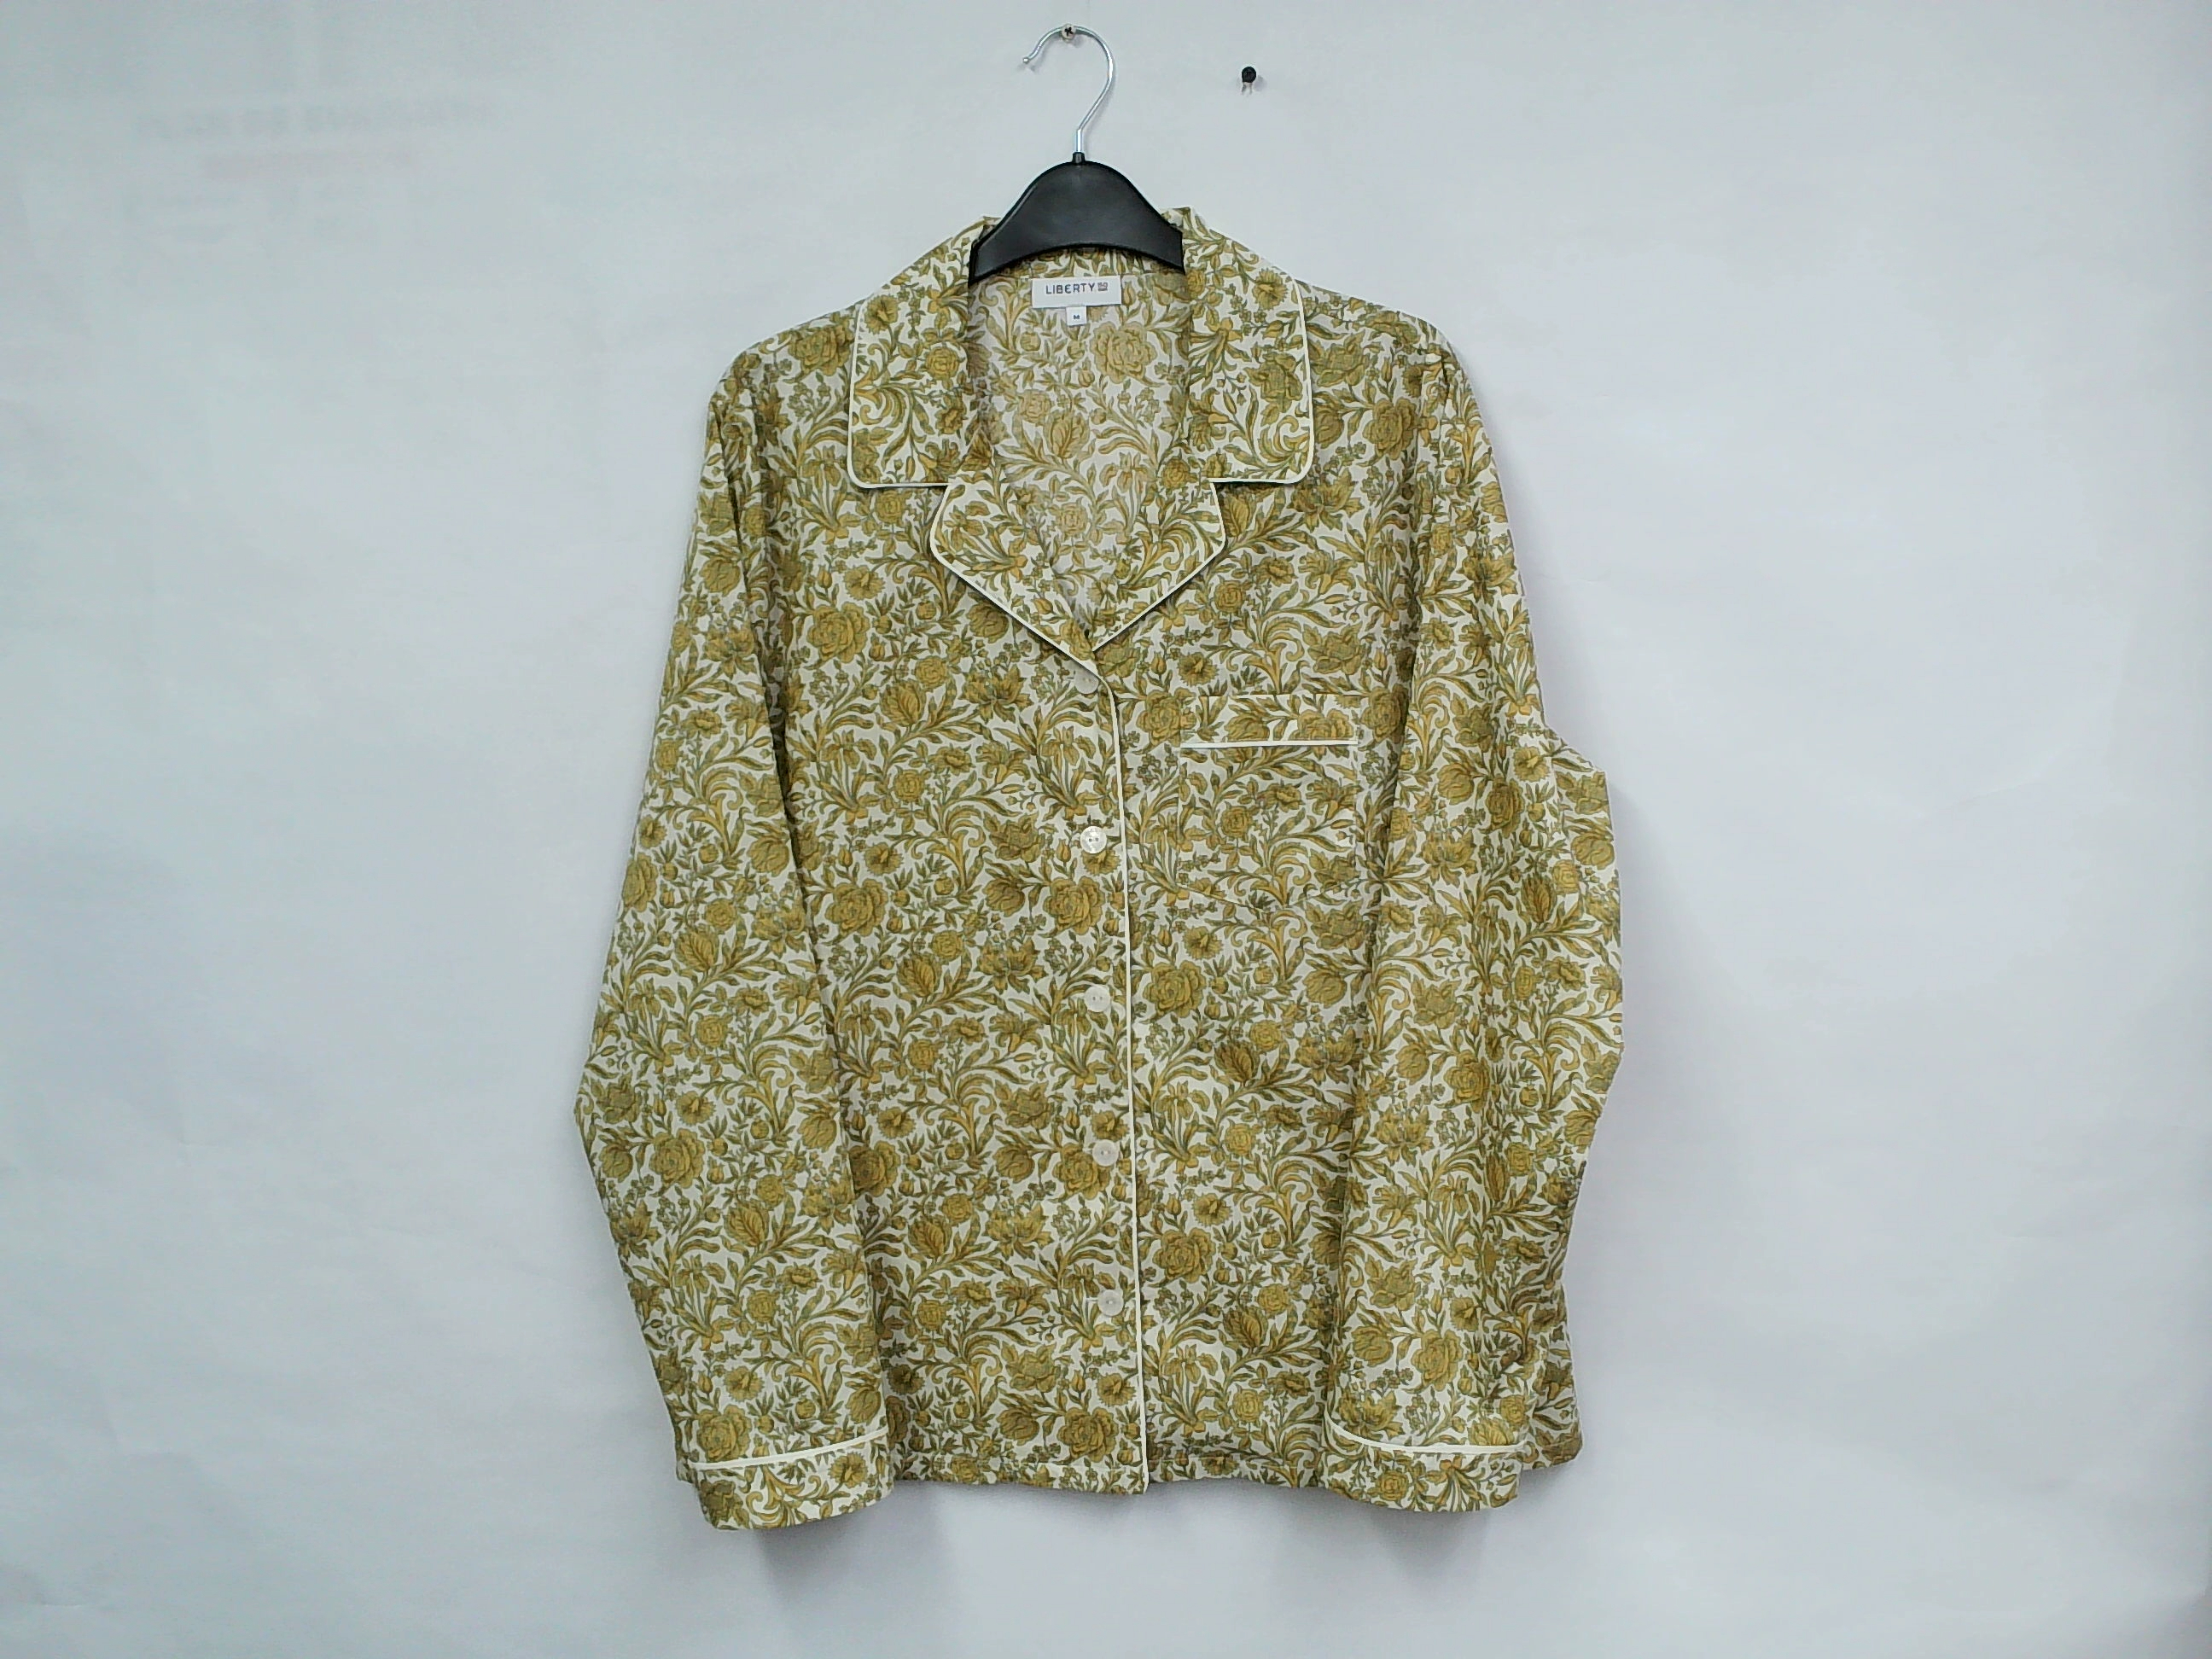seam: (671, 1420, 909, 1534)
